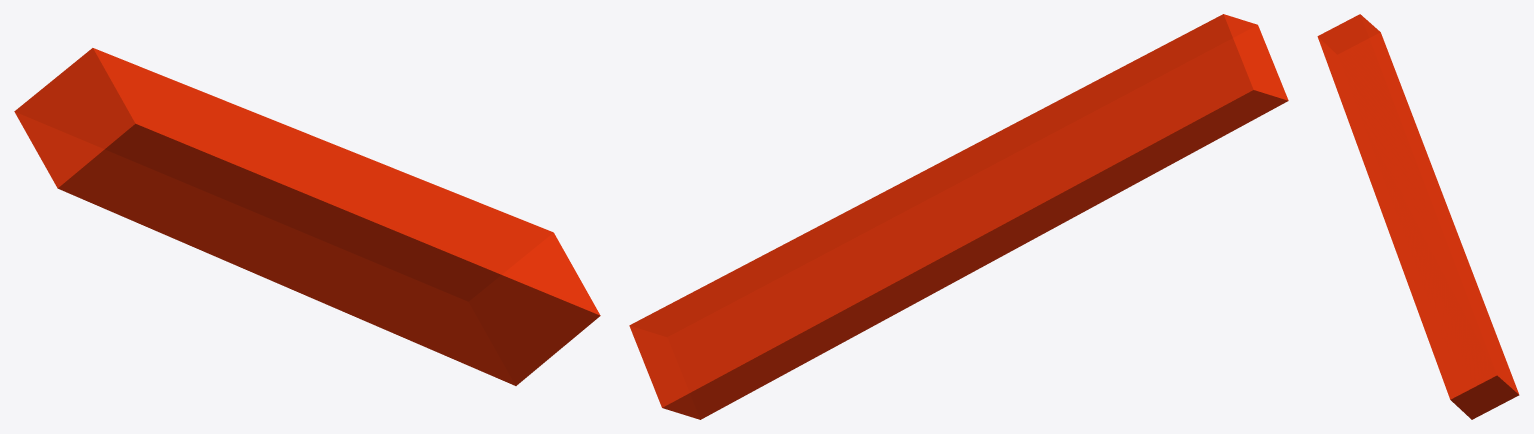
The model's file is Event_421115418_EBrechit_28.fbx.
3 renders of one model, left to right at view 1: azimuth 30°, elevation 25°; view 2: azimuth 150°, elevation 25°; view 3: azimuth 270°, elevation 25°, orthographic. The views are drawn at different scales.
Parts seen in each view (by area): view 1: Model; view 2: Model; view 3: Model.
Part boxes in pixels (x1,y1,x2,y2): Model: (14,48,600,385); Model: (629,14,1288,419); Model: (1317,14,1519,419).
Size of the model in its own units: 0.4247 by 0.3408 by 0.2266.
